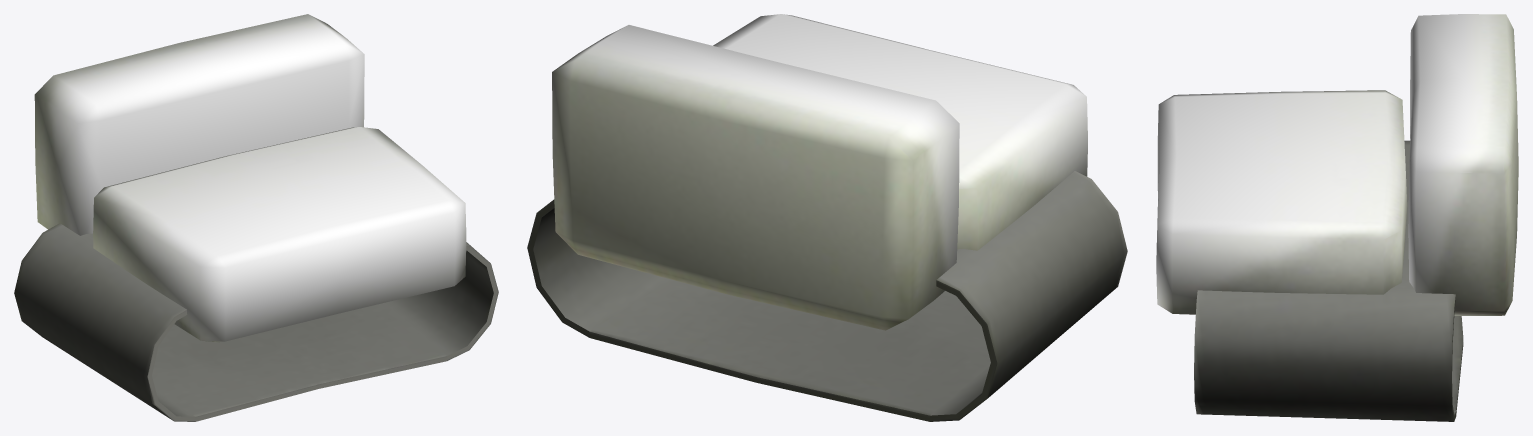
The model's file is NetW_Chair1P04_white.FBX.
3 views of the same model, side by side, from view 1: azimuth 30°, elevation 25°; view 2: azimuth 150°, elevation 25°; view 3: azimuth 270°, elevation 25° (orthographic). The views are drawn at different scales.
Visible parts, largest first — view 1: NetW_Chair1P03; view 2: NetW_Chair1P03; view 3: NetW_Chair1P03.
Part boxes in pixels (box(x1,y1,x2,y2)): NetW_Chair1P03: box(14, 14, 498, 421); NetW_Chair1P03: box(527, 14, 1127, 421); NetW_Chair1P03: box(1156, 14, 1518, 421).
Size of the model in its own units: 1.16 by 0.7159 by 0.8879.
